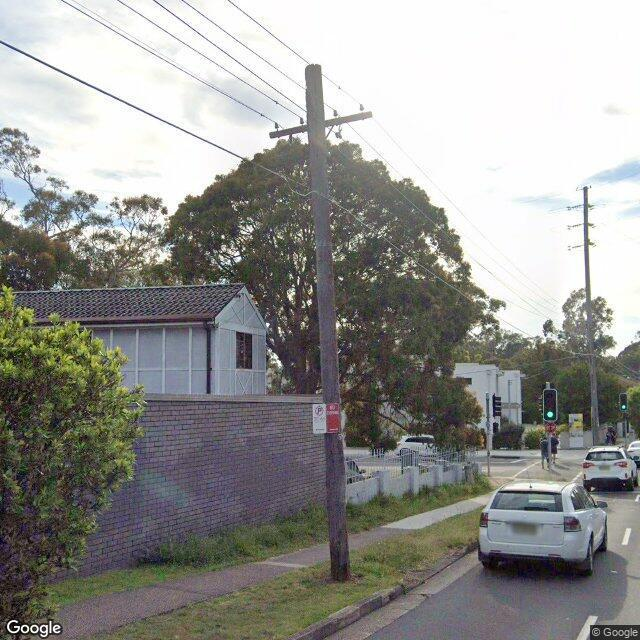crossarm: (269, 110, 373, 139)
steel-pole: (545, 382, 552, 469), (486, 392, 492, 475), (622, 411, 628, 450)
timber-pole: (305, 64, 350, 582), (582, 186, 600, 447)
traffic-light: (542, 388, 557, 422), (492, 394, 502, 418), (620, 392, 627, 411)
